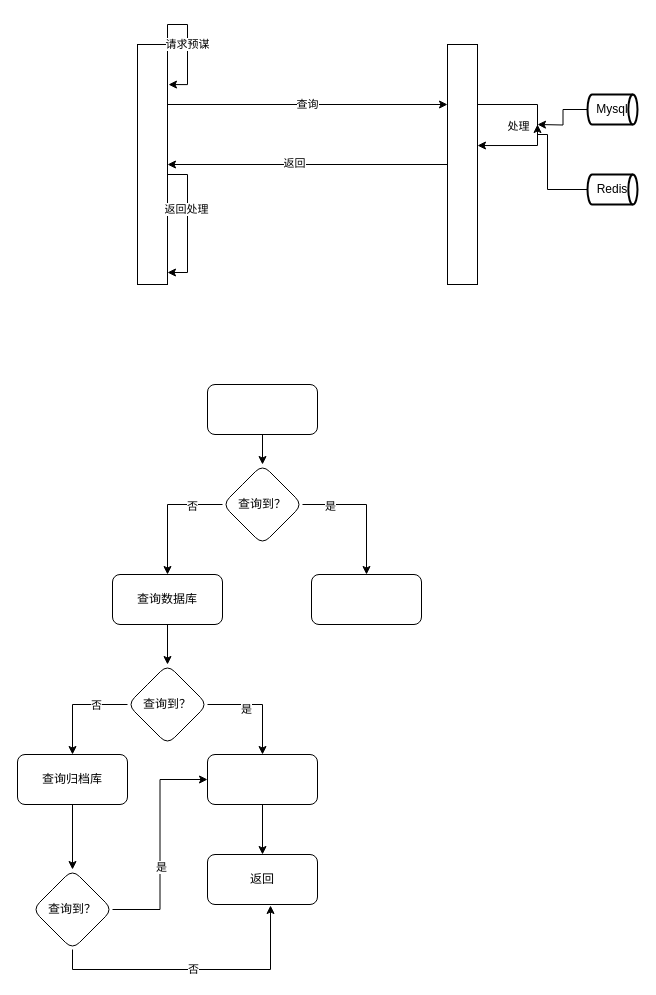
This 656x995 diagram has some shape labels left out. The shapes that lost their labels are listed below. From the top down, each one's centre as x and y in pixels, then its label:
(x=262, y=409): 查询缓存
(x=366, y=599): 返回缓存二进制/序列化
(x=262, y=779): 塞入缓存
